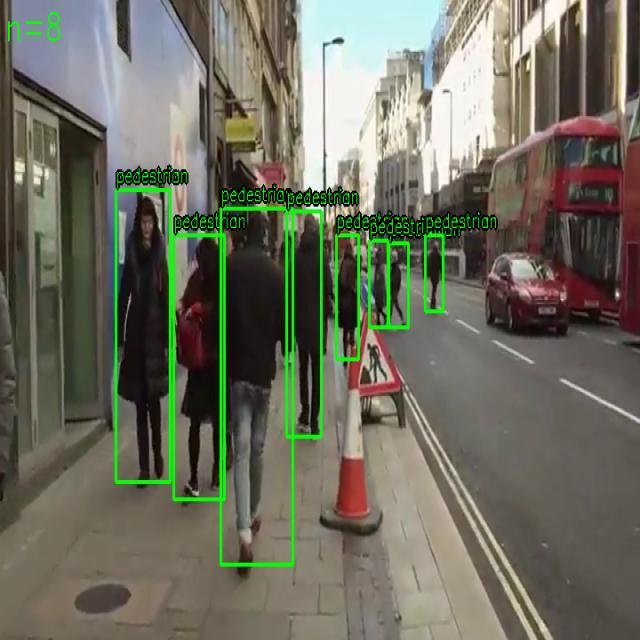with scooter: (220, 208, 294, 566), (116, 189, 170, 483), (173, 234, 224, 500), (286, 211, 322, 437), (336, 234, 359, 360), (388, 242, 409, 328), (368, 240, 388, 328), (425, 235, 443, 312)
